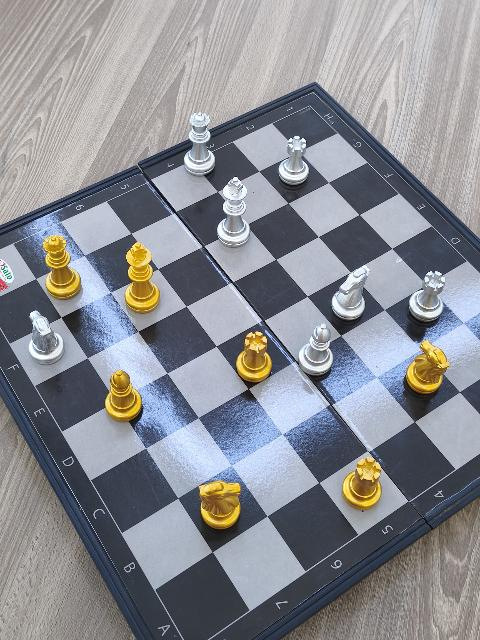black_bishop: (104, 369, 143, 425)
black_king: (124, 242, 161, 314)
black_knight: (404, 341, 450, 398), (198, 479, 245, 534)
black_queen: (42, 232, 83, 300)
black_rook: (342, 455, 384, 513), (236, 331, 273, 387)
white_bishop: (298, 324, 334, 379)
white_king: (219, 177, 250, 248)
white_knight: (330, 266, 371, 322), (27, 310, 66, 368)
white_queen: (183, 112, 216, 177)
white_rook: (408, 271, 447, 325), (278, 135, 310, 187)
